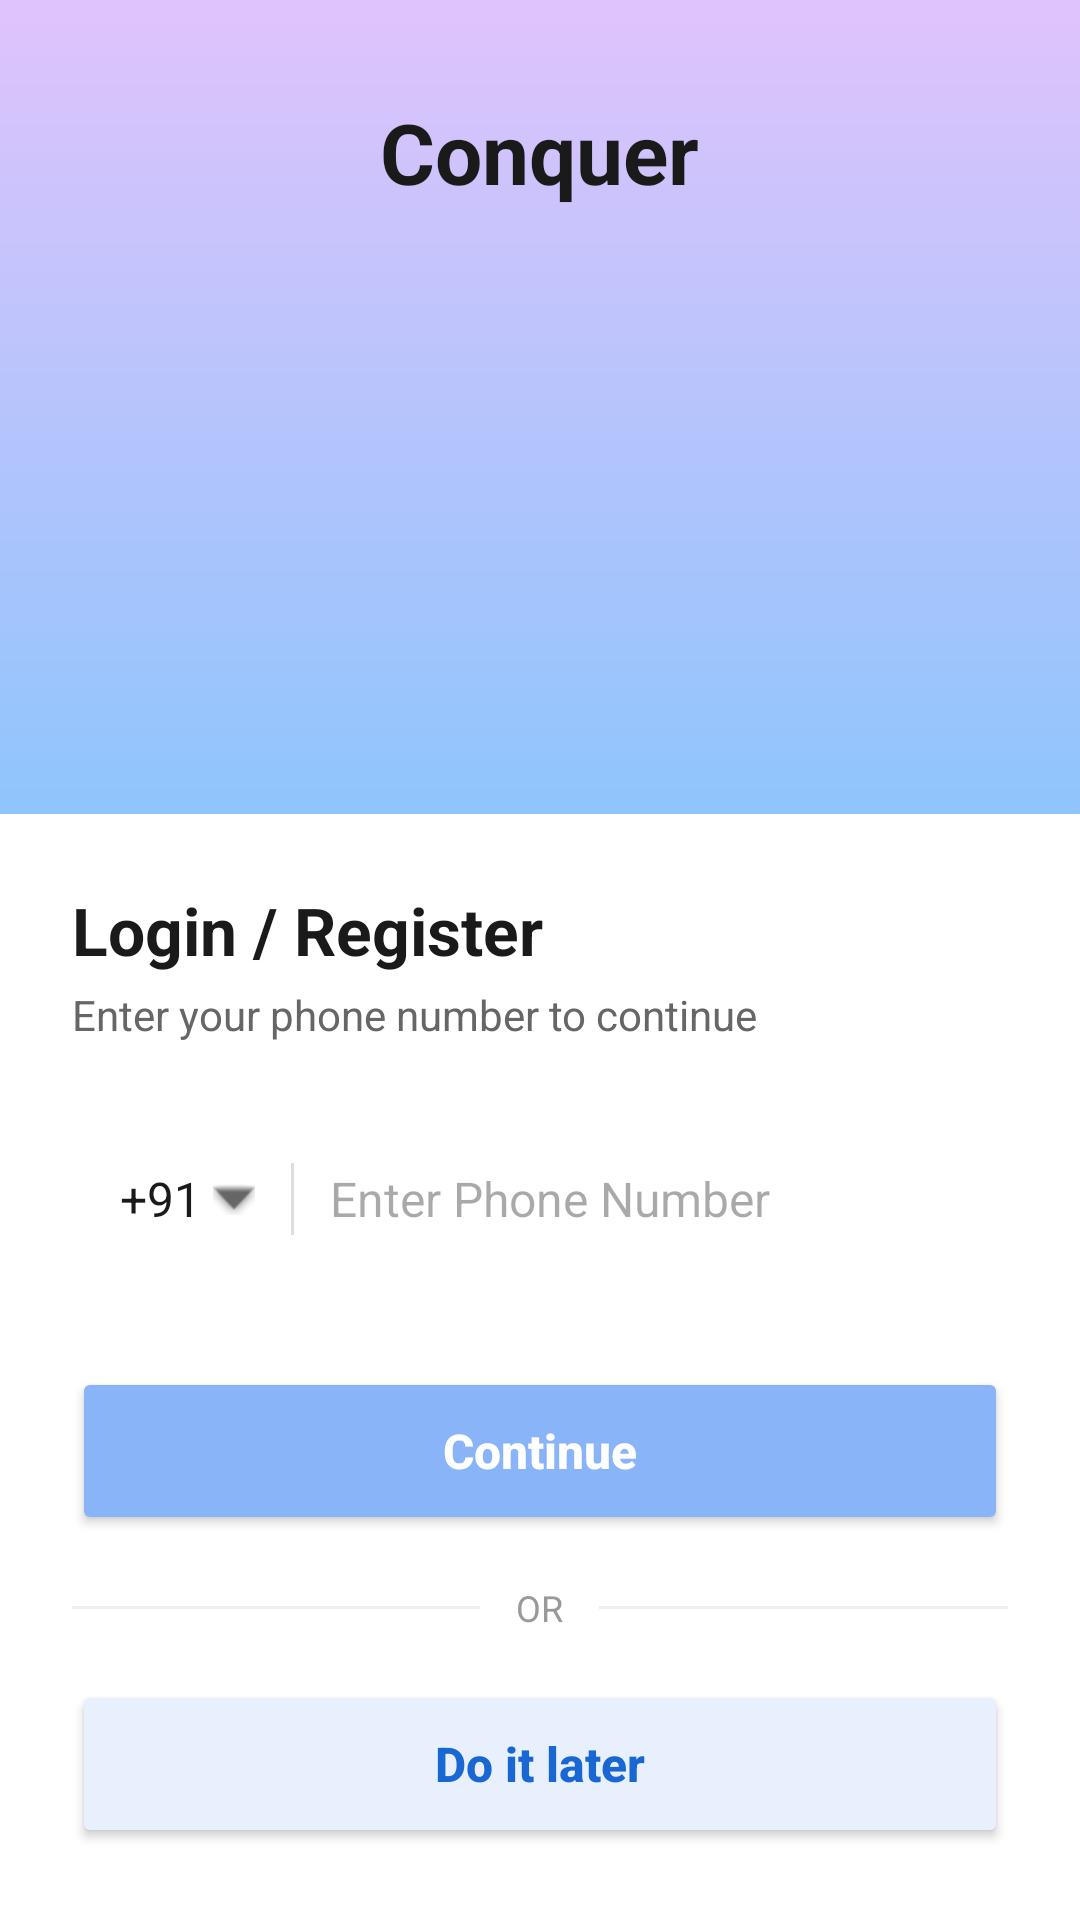

Locate icon controls on the screen. Image size 1080 × 1920, boxes as rect(x1, y1, x2, y2).
arrow down float: rect(213, 1186, 255, 1212)
